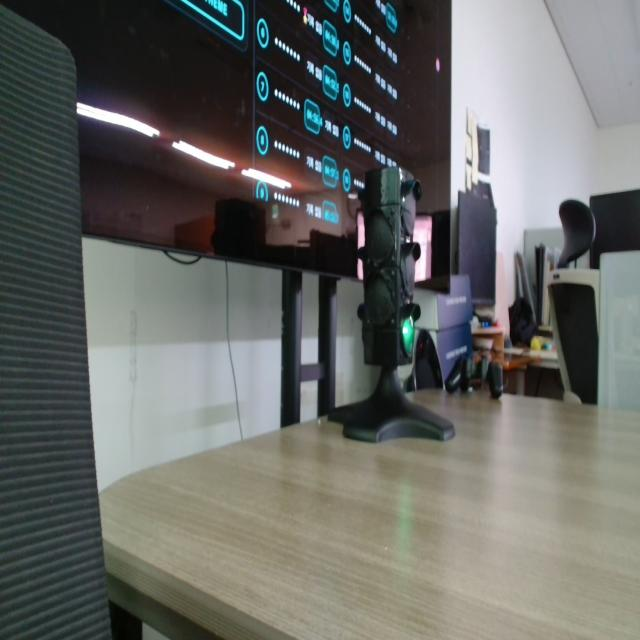green_light: (402, 316, 414, 354)
